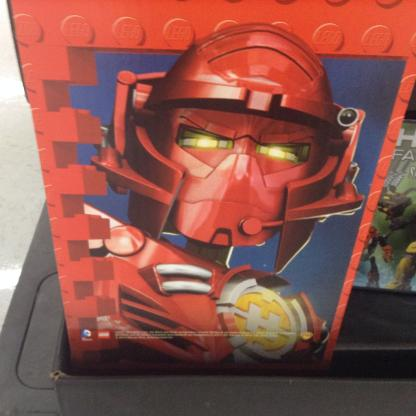Helmet: (110, 21, 361, 256)
